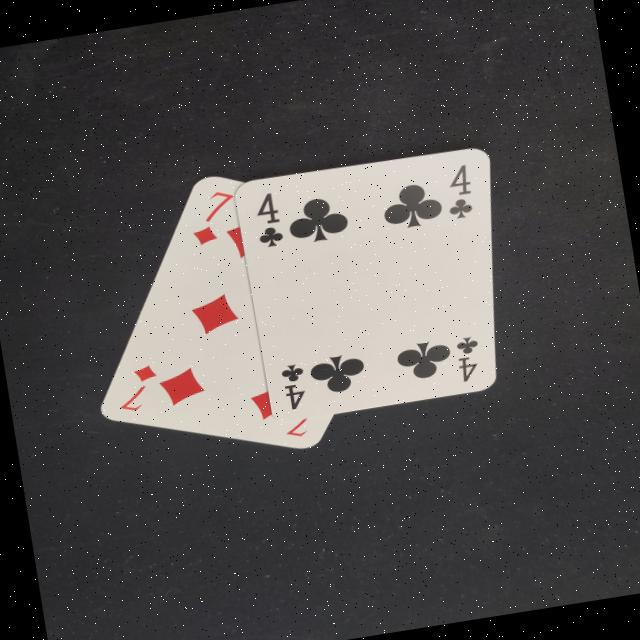4c: (436, 157, 486, 226), (248, 183, 290, 253), (445, 328, 489, 387), (277, 355, 313, 411)
7d: (180, 182, 247, 250), (106, 355, 165, 418)
